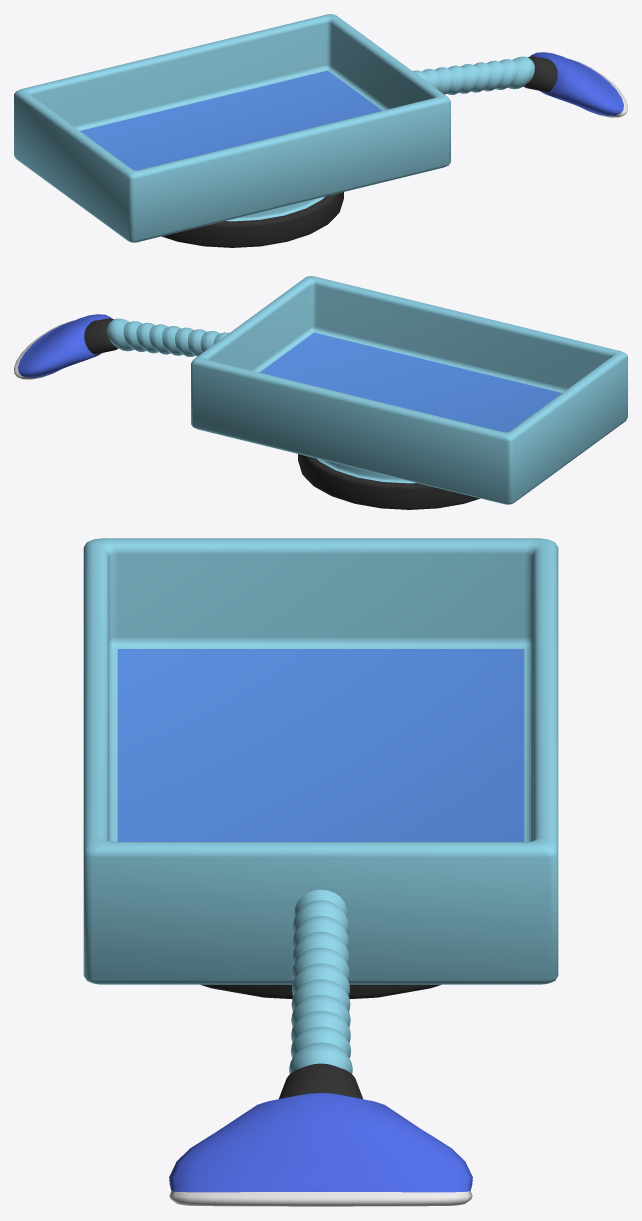
Rendered from Mop.fbx.
The picture shows the model from 3 angles, top to bottom: view 1: azimuth 30°, elevation 25°; view 2: azimuth 150°, elevation 25°; view 3: azimuth 270°, elevation 25°; orthographic projection. The views are drawn at different scales.
Parts seen in each view (by area): view 1: Mop, Mop_Front, Mop_Bottom; view 2: Mop, Mop_Front, Mop_Bottom; view 3: Mop, Mop_Front, Mop_Bottom.
Part boxes in pixels (<box>): Mop: <box>14,14,450,242</box>; Mop_Front: <box>413,52,627,117</box>; Mop_Bottom: <box>161,192,343,247</box>; Mop: <box>191,276,627,504</box>; Mop_Front: <box>14,314,228,379</box>; Mop_Bottom: <box>298,454,480,509</box>; Mop: <box>83,538,558,984</box>; Mop_Front: <box>169,889,472,1206</box>; Mop_Bottom: <box>200,984,441,998</box>.
Bounding box in the file's own units: 746 × 145 × 288.
